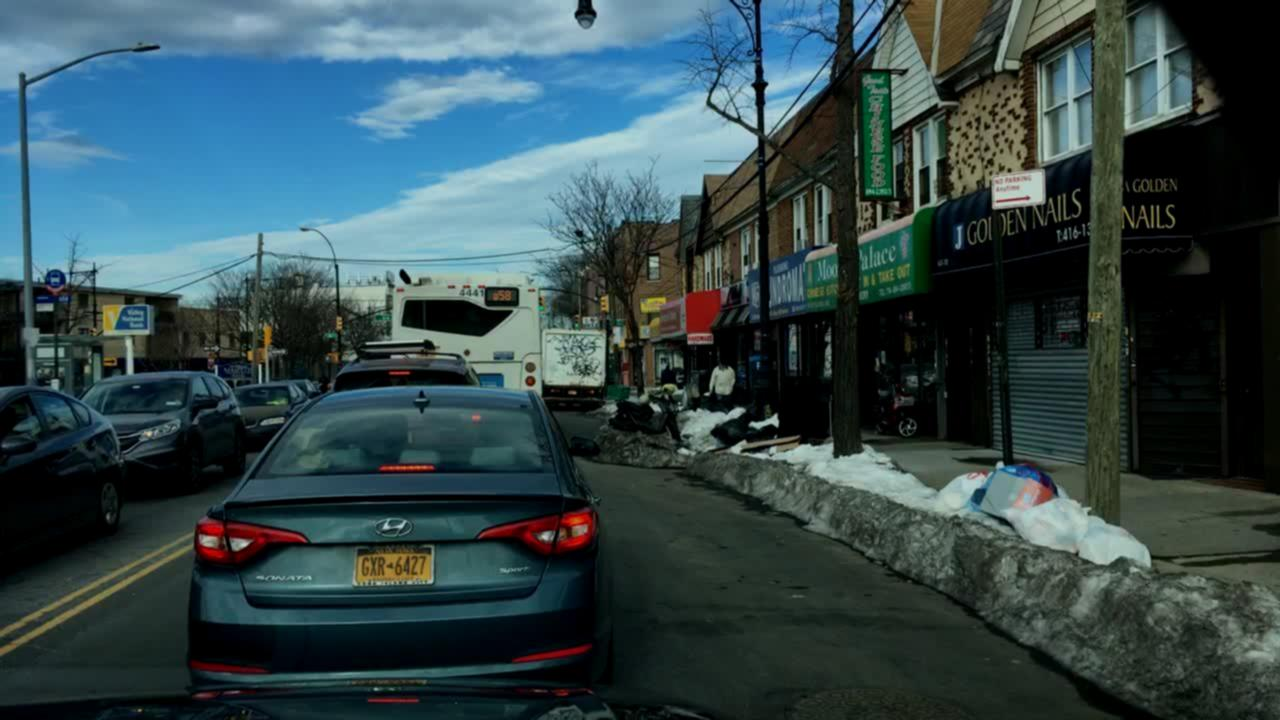Hyundai: (364, 512, 426, 546)
